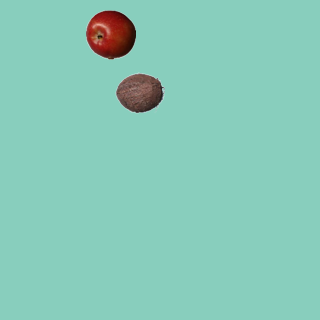Apple Braeburn: (85, 9, 135, 59)
Cocos: (114, 67, 164, 117)
